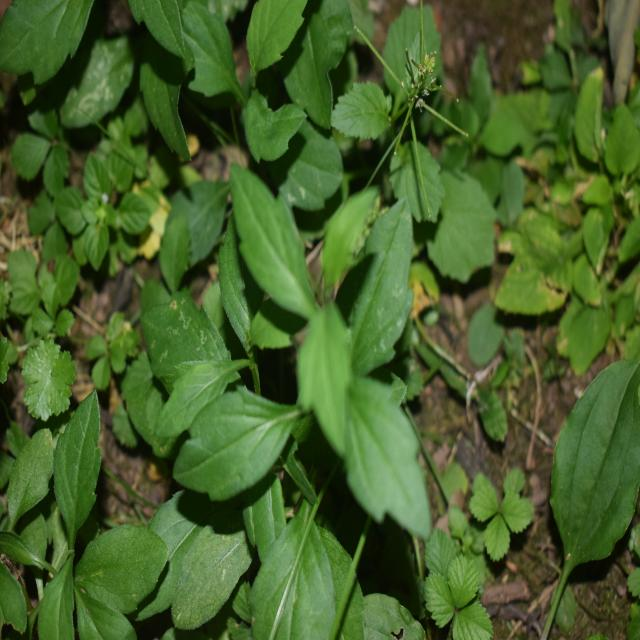Indian aster: (157, 168, 444, 528)
